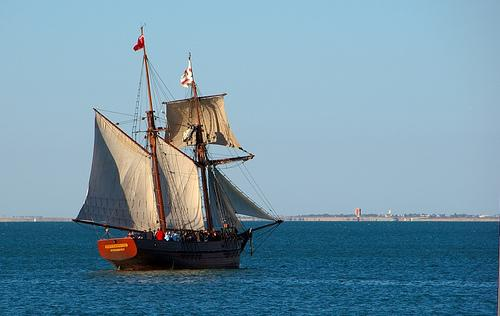Ship: (73, 26, 283, 272)
